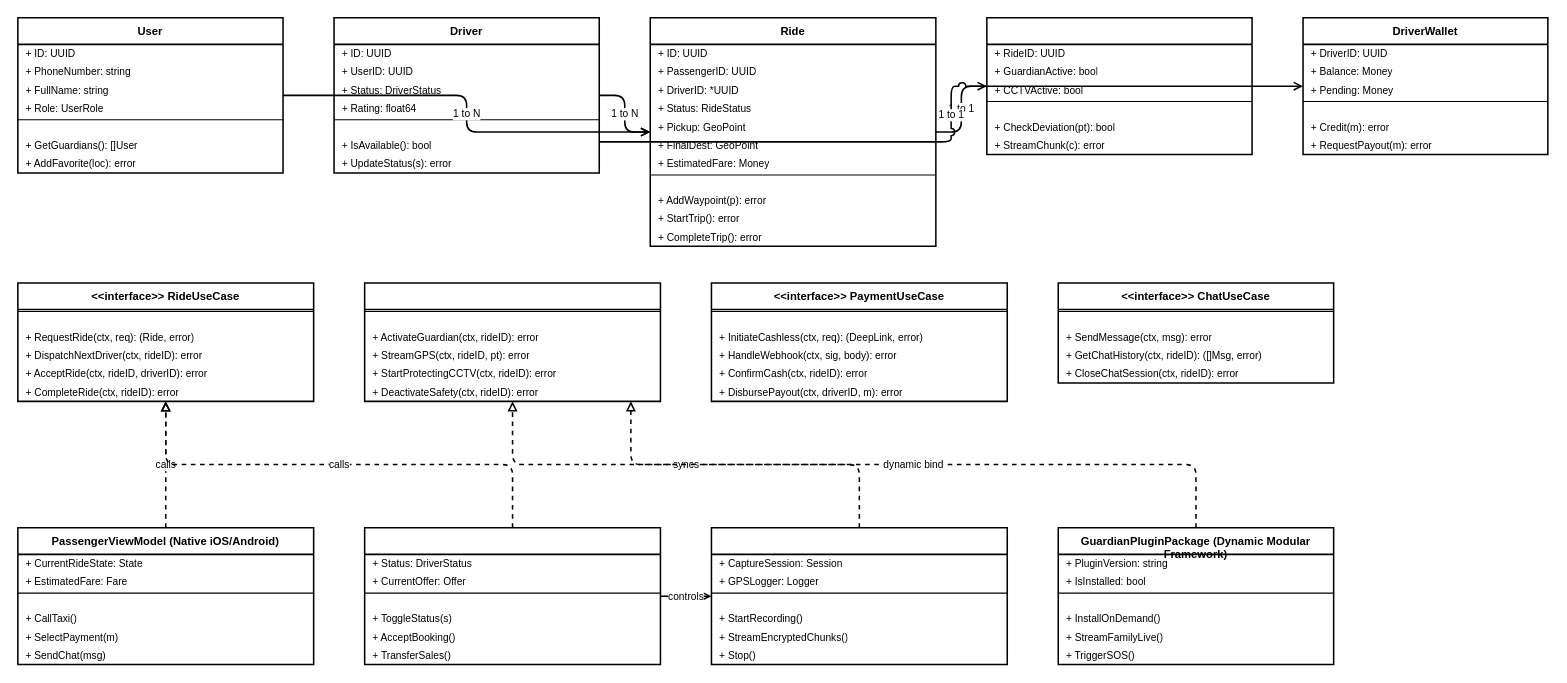
This 1567x683 diagram has some shape labels left out. Here are the shapes that lost their labels. From the top down, the box of each, then its label:
(986, 17, 1252, 155): SafetySession
(363, 282, 661, 402): <<interface>> SafetyUseCase
(363, 527, 661, 665): DriverViewModel (Native iOS/Android)
(710, 527, 1008, 665): NativeCCTVManager (AVFoundation / CameraX)
